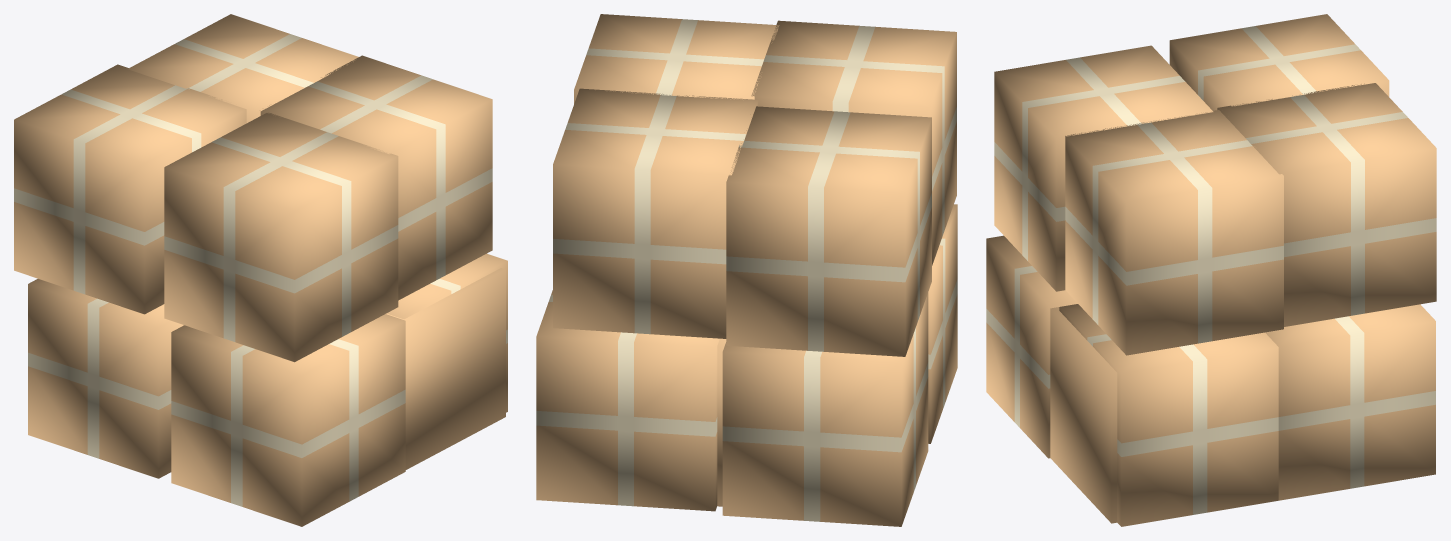
The model's file is boxtruckboxonly.glb.
3 views of the same model, side by side, from view 1: azimuth 30°, elevation 25°; view 2: azimuth 150°, elevation 25°; view 3: azimuth 270°, elevation 25° (orthographic). The views are drawn at different scales.
Parts seen in each view (by area): view 1: Box_3.008; view 2: Box_3.008; view 3: Box_3.008.
Boxes of the visible parts, x1,y1,x2,y2 form: Box_3.008: (14, 14, 507, 526); Box_3.008: (536, 14, 957, 526); Box_3.008: (986, 14, 1436, 526).
Size of the model in its own units: 25.31 by 19.34 by 24.78.
1 material, 1 textured.
